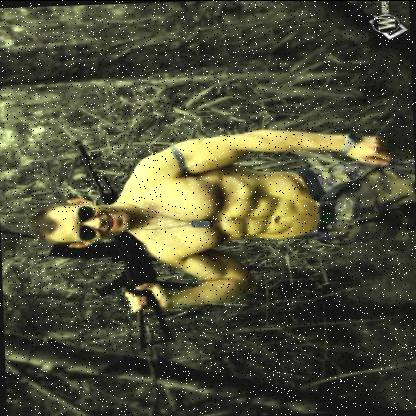rifle: (28, 126, 188, 357)
